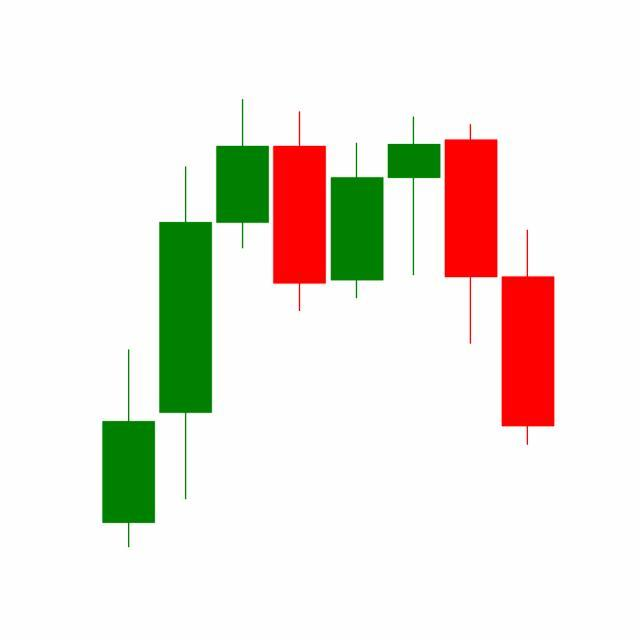Hikkake Pattern: (270, 108, 555, 449)
